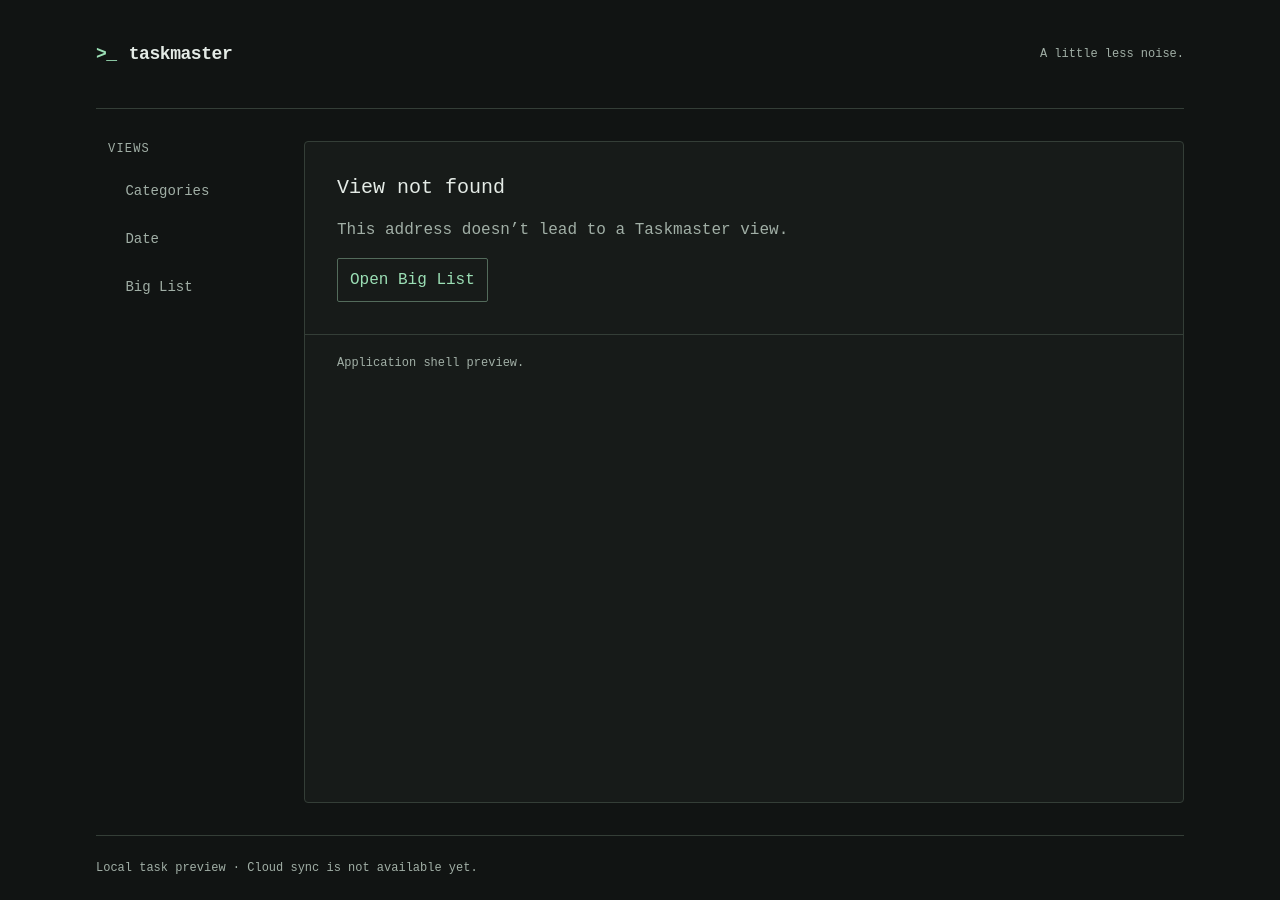
Test: application shell › shows a recovery link for an unknown route
This screenshot has width=1280, height=900.
Expected: the heading "View not found" is shown, x1=337 y1=176 x2=505 y2=199
Step 1. Click the link "Open Big List" → (412, 280), box x1=337 y1=258 x2=488 y2=302
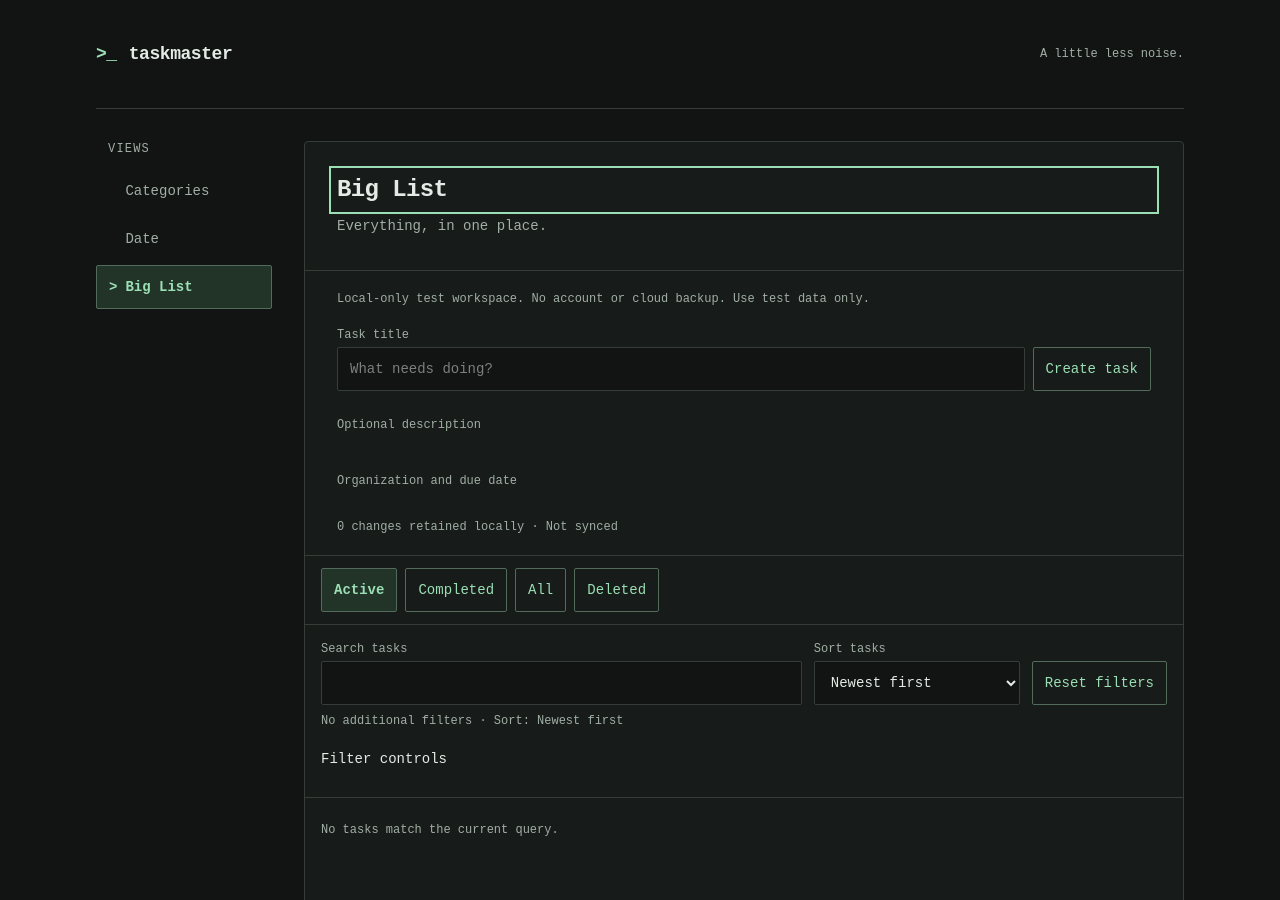
Expected: the heading "Big List" is shown, x1=337 y1=176 x2=447 y2=203
